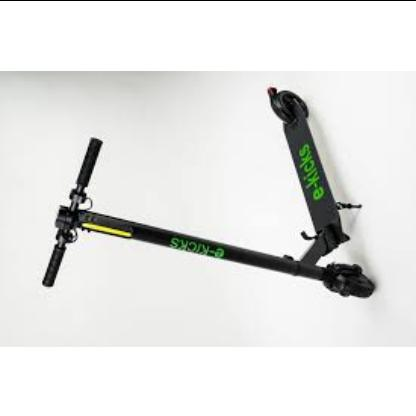bike: (41, 86, 376, 300)
